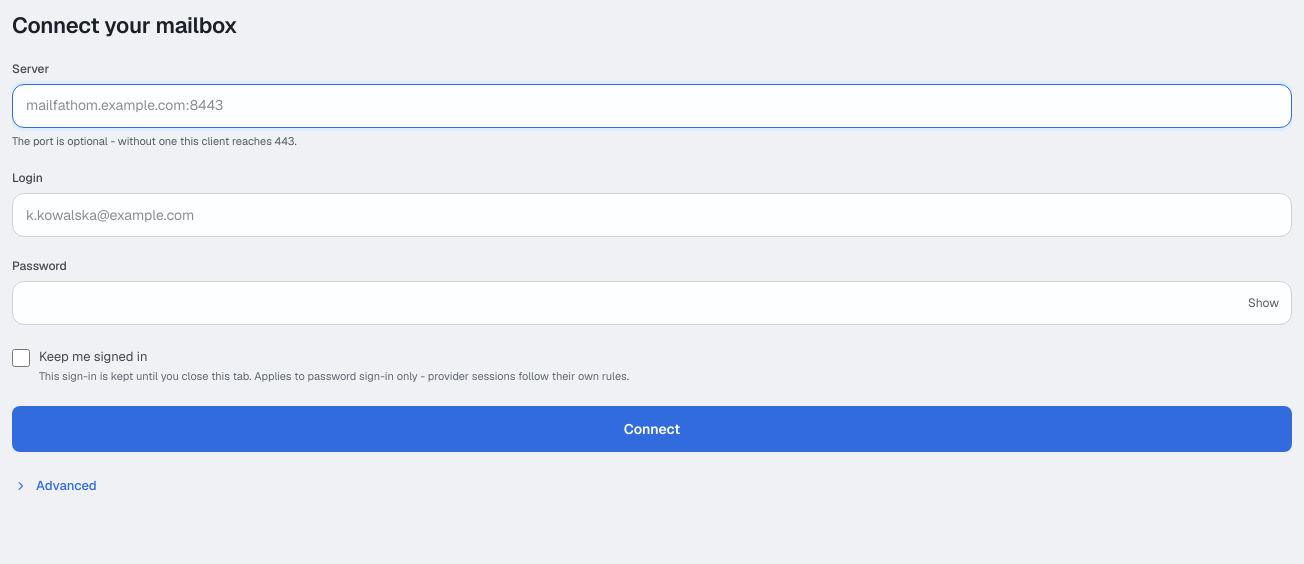
Scenario: SignIn › will not carry a password over plain HTTP until somebody says it may
Type "http://mail.example.test" into the field labelled "Server" at [652, 106], box [26,84,1278,126]
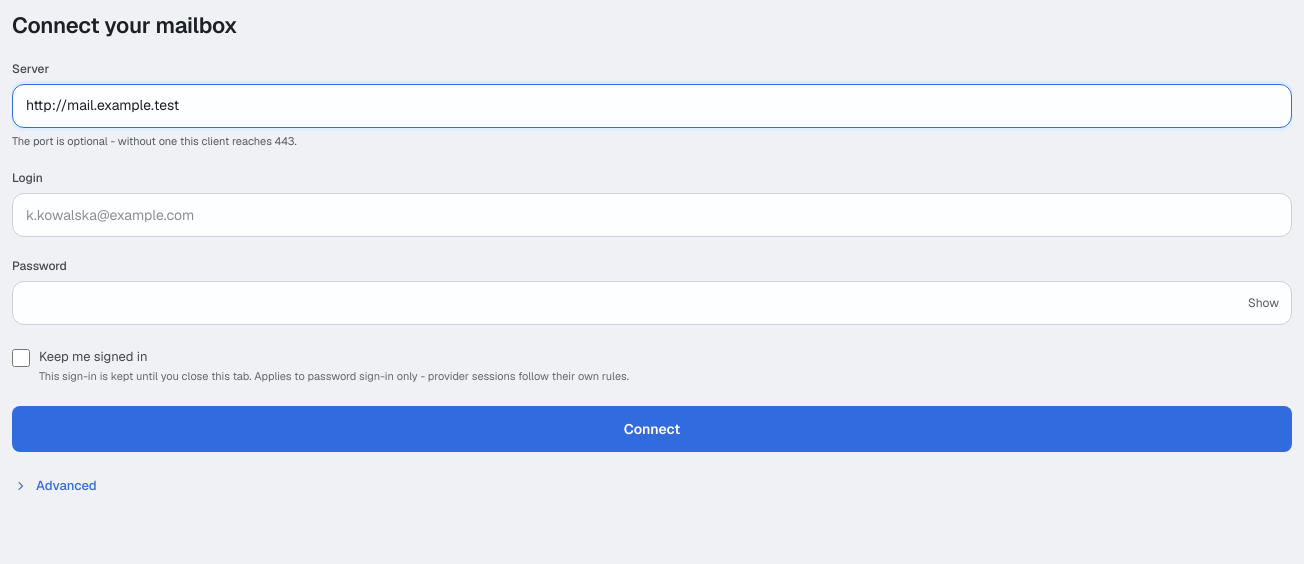
Type "user" into the field labelled "Login" at [652, 215], box [26,194,1278,236]
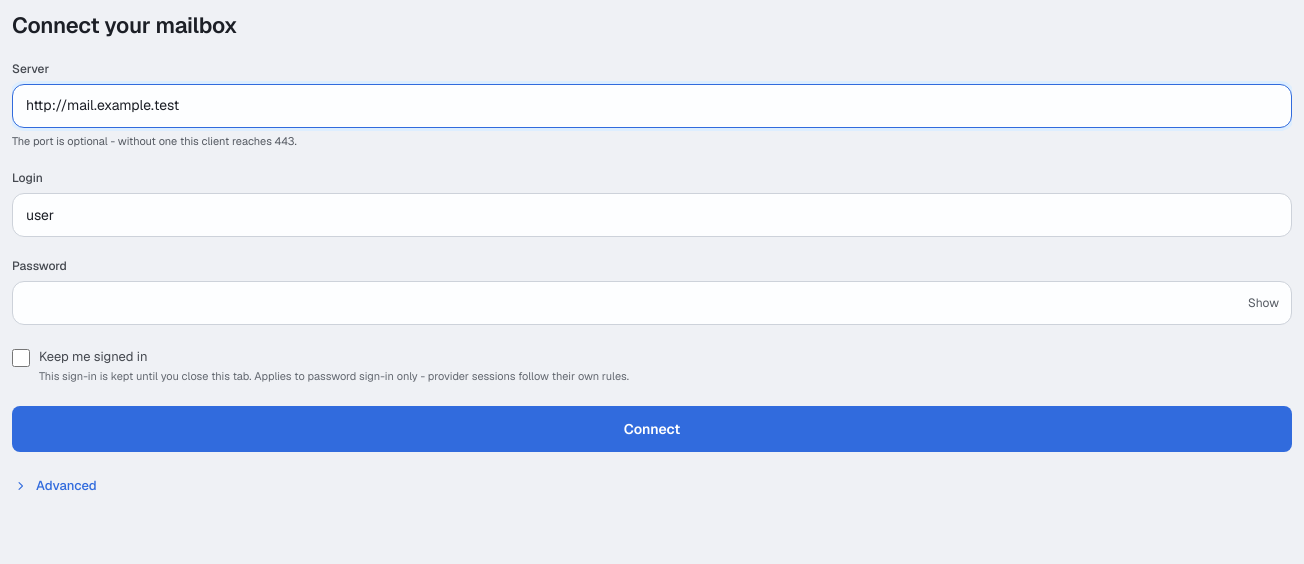
Type "open sesame" into the password field labelled "Password" at [629, 303], box [26,282,1232,324]
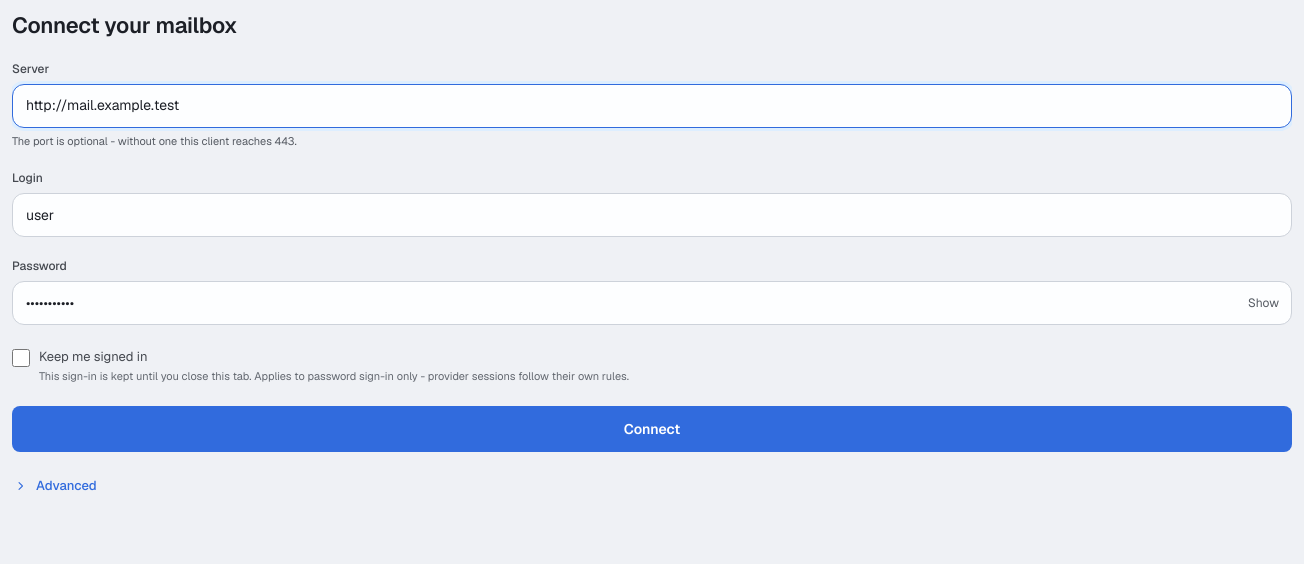
Click the button "Connect" at [652, 429], box [12,406,1292,452]
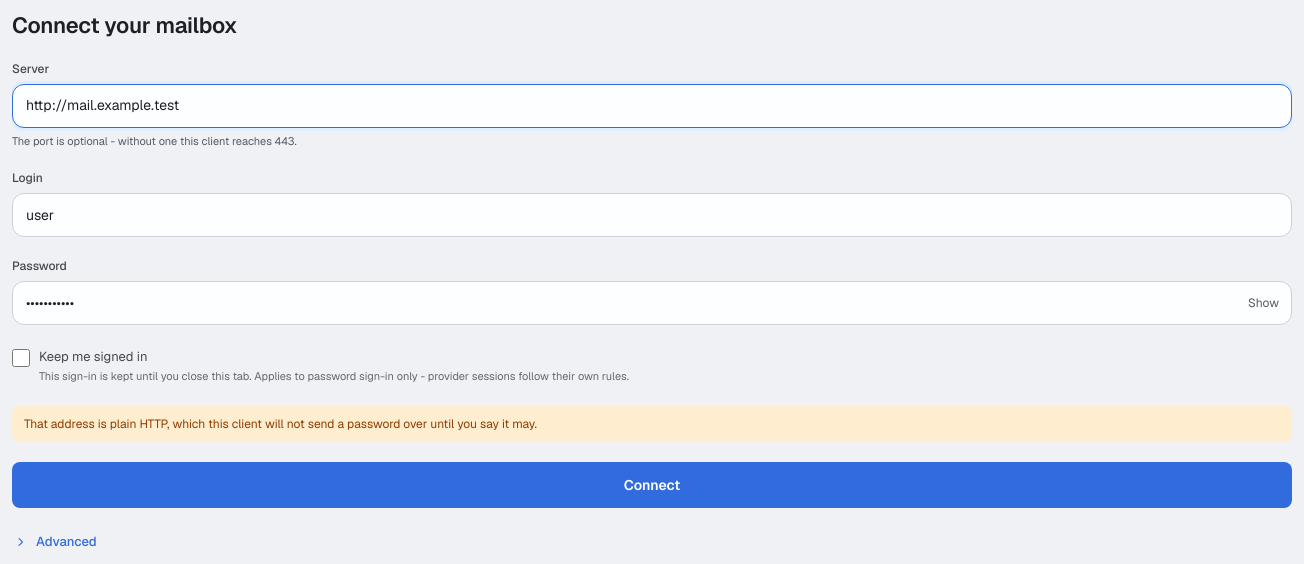
Check: the message shows "That address is plain HTTP, which this client will not send a password over until you say it may.", box [24,416,537,432]
